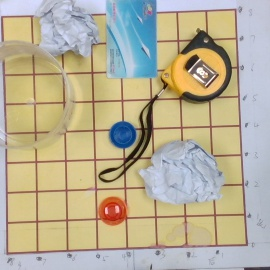card: (105, 1, 160, 79)
